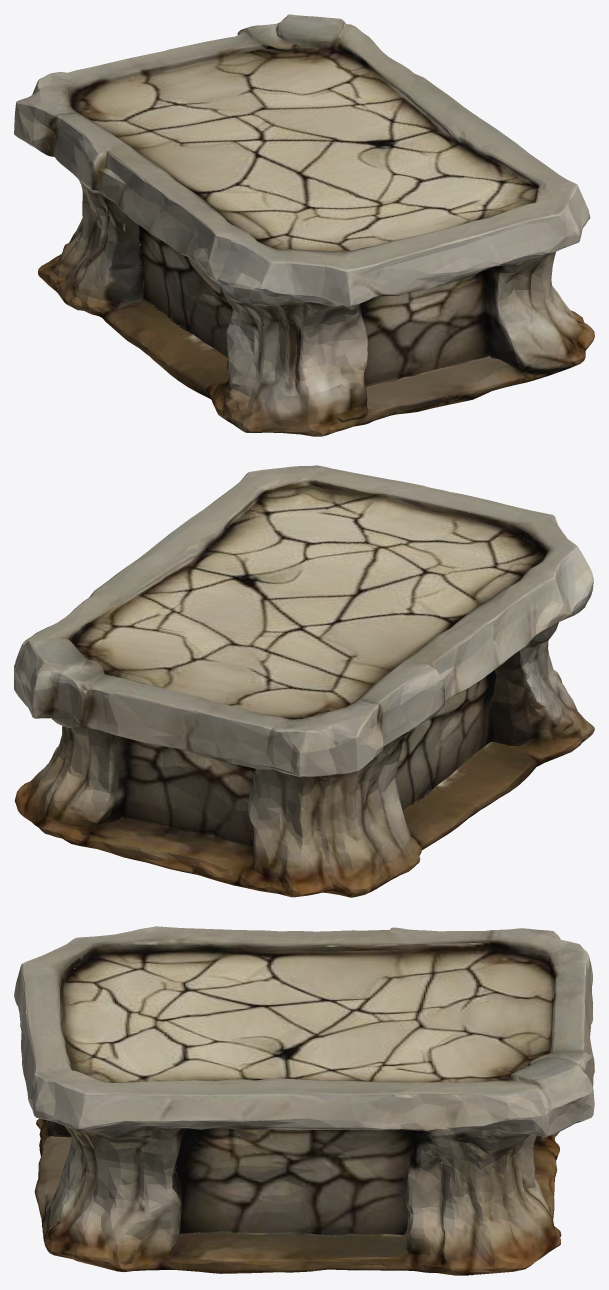
File: wt-ruins-dais.glb
3 renders of one model, top to bottom at view 1: azimuth 30°, elevation 25°; view 2: azimuth 150°, elevation 25°; view 3: azimuth 270°, elevation 25°, orthographic. The views are drawn at different scales.
Parts seen in each view (by area): view 1: tmpcl56_6vd.ply; view 2: tmpcl56_6vd.ply; view 3: tmpcl56_6vd.ply.
Boxes of the visible parts, x1,y1,x2,y2 form: tmpcl56_6vd.ply: (14, 14, 594, 436); tmpcl56_6vd.ply: (14, 465, 594, 897); tmpcl56_6vd.ply: (14, 926, 594, 1275).
Size of the model in its own units: 5.81 by 2.8 by 7.88.
Materials: 1 (1 with a texture image).
